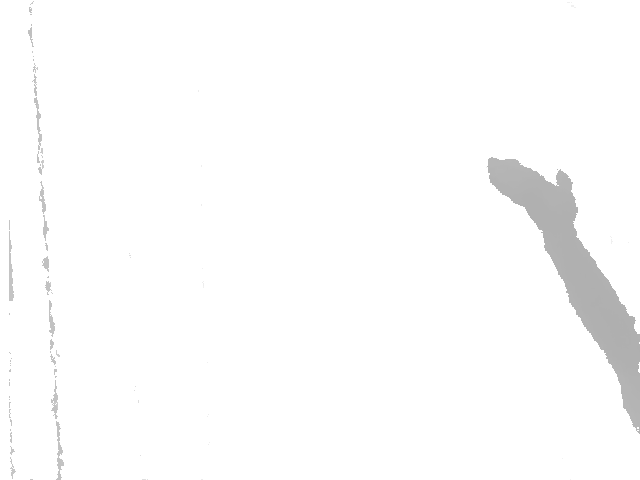hand: (487, 156, 579, 238)
person: (487, 156, 640, 436)
